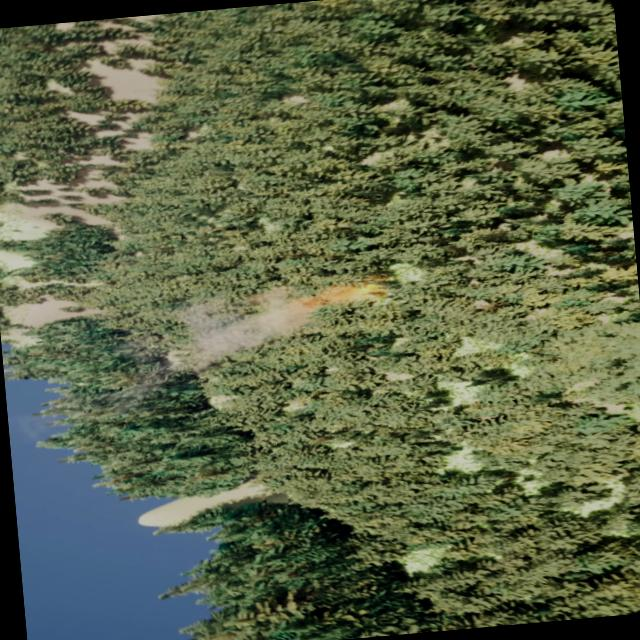fire: (320, 276, 386, 310)
smoke: (123, 281, 334, 390)
